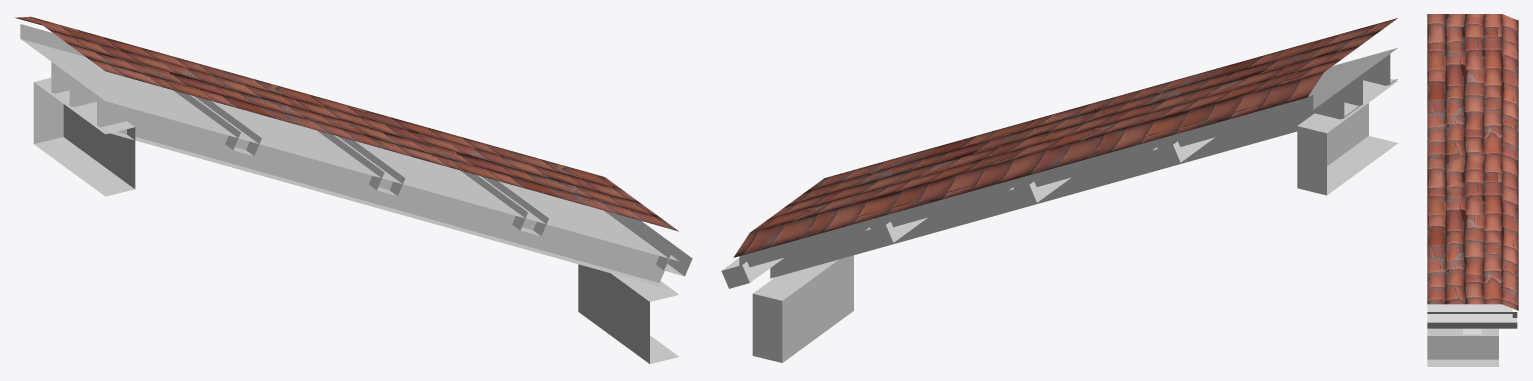
The model's file is WallKit_Verge_Left_LOD1.fbx.
3 views of the same model, side by side, from view 1: azimuth 30°, elevation 25°; view 2: azimuth 150°, elevation 25°; view 3: azimuth 270°, elevation 25° (orthographic). The views are drawn at different scales.
Parts seen in each view (by area): view 1: WallKit_Verge_Left_LOD1; view 2: WallKit_Verge_Left_LOD1; view 3: WallKit_Verge_Left_LOD1.
Boxes of the visible parts, box(x1,y1,x2,y2) form: WallKit_Verge_Left_LOD1: box(15, 16, 692, 363); WallKit_Verge_Left_LOD1: box(721, 18, 1398, 362); WallKit_Verge_Left_LOD1: box(1427, 14, 1518, 366).
Size of the model in its own units: 409 by 283 by 110.
